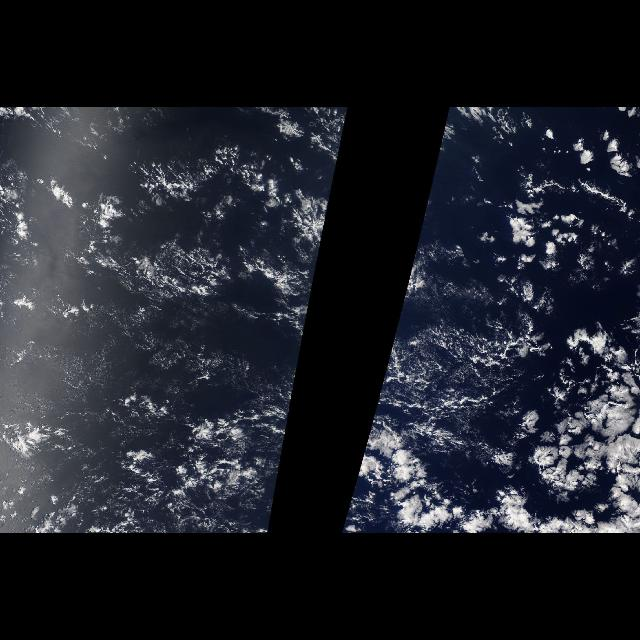Flower: (359, 123, 639, 532)
Gravel: (12, 380, 274, 530)
Sugar: (16, 320, 290, 400)
